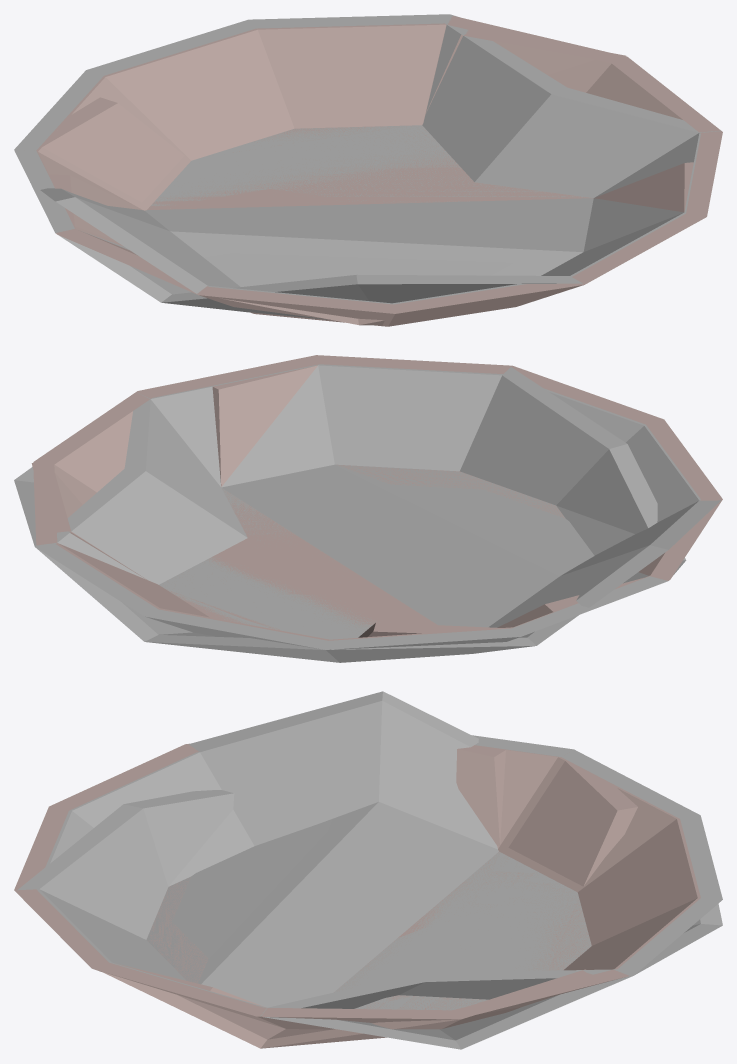
File: Dish1.fbx
3 views of the same model, one above another, from view 1: azimuth 30°, elevation 25°; view 2: azimuth 150°, elevation 25°; view 3: azimuth 270°, elevation 25° (orthographic).
Visible parts, largest first — view 1: DishIron1.2, DishGlass1.1, DishIron1.1, DishGlass1.2, DishGlass1.3; view 2: DishIron1.2, DishIron1.1, DishGlass1.1, DishGlass1.3, DishGlass1.2; view 3: DishIron1.2, DishGlass1.1, DishIron1.1, DishGlass1.2, DishGlass1.3.
Boxes of the visible parts, left/top/right/bottom form: DishIron1.2: left=40, top=14, right=720, bottom=304; DishGlass1.1: left=36, top=15, right=722, bottom=326; DishIron1.1: left=14, top=14, right=584, bottom=319; DishGlass1.2: left=37, top=30, right=626, bottom=325; DishGlass1.3: left=49, top=162, right=693, bottom=292; DishIron1.2: left=35, top=364, right=720, bottom=662; DishIron1.1: left=14, top=367, right=686, bottom=662; DishGlass1.1: left=33, top=355, right=722, bottom=640; DishGlass1.3: left=212, top=365, right=668, bottom=627; DishGlass1.2: left=31, top=463, right=511, bottom=637; DishIron1.2: left=37, top=691, right=722, bottom=1016; DishGlass1.1: left=14, top=743, right=700, bottom=1029; DishIron1.1: left=17, top=735, right=722, bottom=1049; DishGlass1.2: left=101, top=752, right=637, bottom=1048; DishGlass1.3: left=116, top=745, right=505, bottom=1006.
Size of the model in its own units: 31.16 by 4.41 by 30.58.
